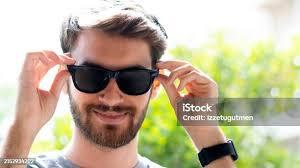sunglasses: (67, 60, 157, 98)
